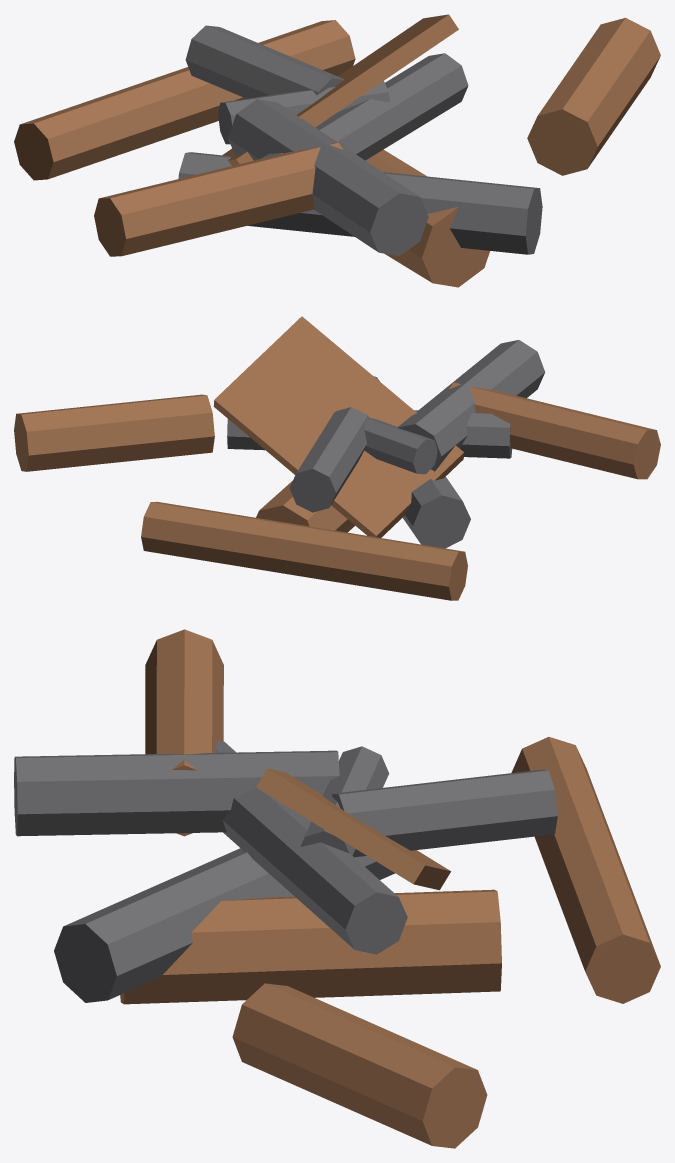
File: ScrapPile.glb
The picture shows the model from 3 angles, top to bottom: view 1: azimuth 30°, elevation 25°; view 2: azimuth 150°, elevation 25°; view 3: azimuth 270°, elevation 25°; orthographic projection. The views are drawn at different scales.
Visible parts, largest first — view 1: Scrap pipe.007, Scrap pipe.001, Scrap pipe.003, Scrap pipe.005, Scrap pipe.008, Scrap pipe, Scrap pipe.006, Scrap plate, Scrap pipe.002, Scrap pipe.004; view 2: Scrap plate, Scrap pipe.007, Scrap pipe.005, Scrap pipe.001, Scrap pipe.003, Scrap pipe.006, Scrap pipe.008, Scrap pipe.004, Scrap pipe, Scrap pipe.002; view 3: Scrap pipe.002, Scrap pipe.005, Scrap pipe.003, Scrap pipe.007, Scrap pipe.008, Scrap pipe, Scrap pipe.006, Scrap pipe.001, Scrap plate, Scrap pipe.004.
Part boxes in pixels (box(x1,y1,x2,y2)): Scrap pipe.007: box(14, 20, 355, 180); Scrap pipe.001: box(94, 142, 343, 256); Scrap pipe.003: box(228, 99, 428, 256); Scrap pipe.005: box(527, 17, 660, 175); Scrap pipe.008: box(178, 152, 542, 254); Scrap pipe: box(261, 53, 468, 160); Scrap pipe.006: box(185, 25, 344, 98); Scrap plate: box(222, 14, 458, 165); Scrap pipe.002: box(365, 149, 489, 287); Scrap pipe.004: box(218, 81, 389, 144); Scrap plate: box(213, 316, 464, 537); Scrap pipe.007: box(141, 501, 467, 600); Scrap pipe.005: box(14, 394, 214, 471); Scrap pipe.001: box(449, 382, 660, 479); Scrap pipe.003: box(397, 340, 545, 471); Scrap pipe.006: box(289, 407, 368, 512); Scrap pipe.008: box(373, 376, 470, 548); Scrap pipe.004: box(364, 417, 437, 474); Scrap pipe: box(227, 410, 512, 458); Scrap pipe.002: box(256, 481, 354, 532); Scrap pipe.002: box(120, 889, 501, 1004); Scrap pipe.005: box(232, 983, 487, 1148); Scrap pipe.003: box(14, 750, 339, 836); Scrap pipe.007: box(511, 737, 660, 1003); Scrap pipe.008: box(54, 848, 394, 1002); Scrap pipe: box(215, 740, 407, 954); Scrap pipe.006: box(332, 769, 557, 857); Scrap pipe.001: box(145, 629, 223, 836); Scrap plate: box(256, 768, 450, 890); Scrap pipe.004: box(300, 746, 389, 855).
Bounding box in the file's own units: 4.93 × 1.57 × 3.49.
